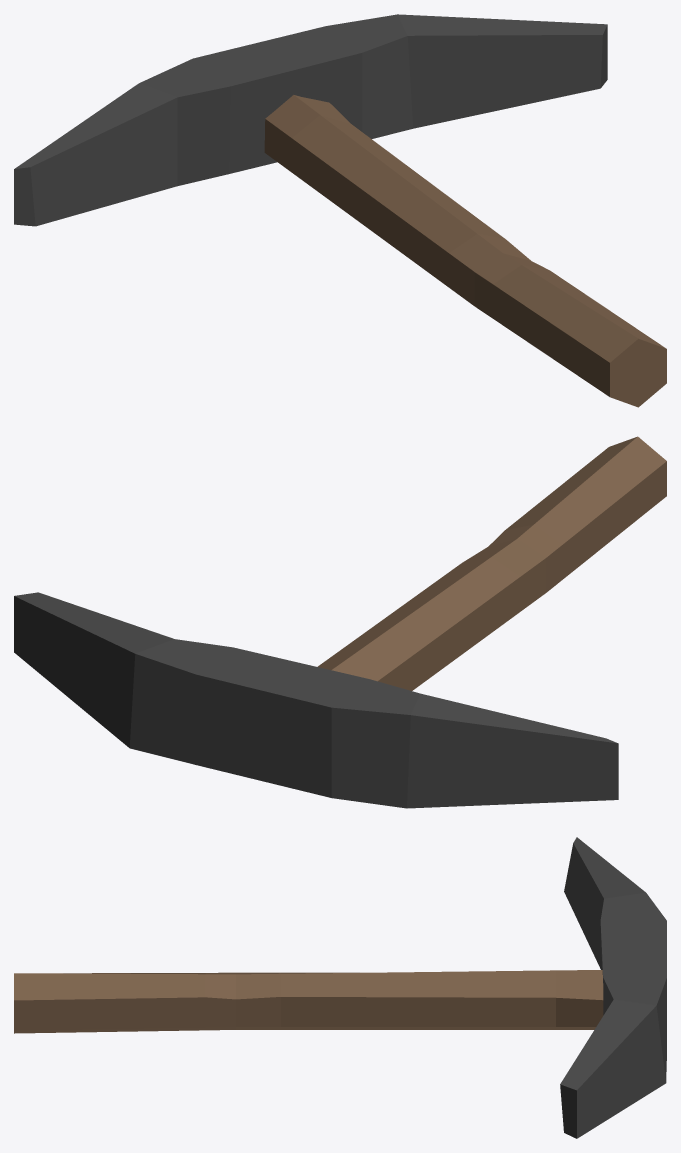
The model's file is pioche pierre.fbx.
The picture shows the model from 3 angles, top to bottom: view 1: azimuth 30°, elevation 25°; view 2: azimuth 150°, elevation 25°; view 3: azimuth 270°, elevation 25°; orthographic projection. The views are drawn at different scales.
Visible parts, largest first — view 1: Cube, Cylinder; view 2: Cube, Cylinder; view 3: Cylinder, Cube.
Boxes of the visible parts, left/top/right/bottom form: Cube: left=14, top=14, right=607, bottom=226; Cylinder: left=264, top=95, right=666, bottom=407; Cube: left=14, top=592, right=618, bottom=808; Cylinder: left=317, top=436, right=666, bottom=690; Cylinder: left=14, top=970, right=603, bottom=1033; Cube: left=560, top=837, right=666, bottom=1138.
Size of the model in its own units: 504 by 75.94 by 549.
